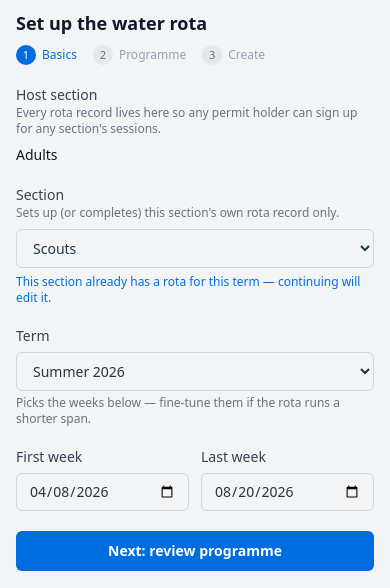
Test case: RotaSetupWizard — re-edit seeding (T1) › seeds range/act/st/en/k/p/regulars and reconstructs excluded overrides from {c:1}; saved excluded wins over the heuristic; switching section away and back re-se
Expected: the date field labelled "First week" holds "2026-04-08", [16, 473, 189, 511]
Expected: the date field labelled "Last week" holds "2026-08-20", [201, 473, 374, 511]
Click the button "Next: review programme" at (195,551), box [16, 531, 374, 571]
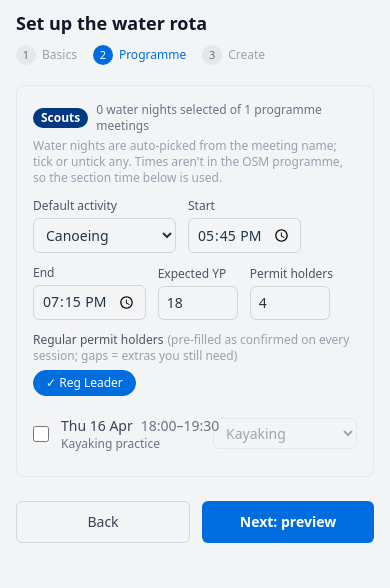
Expected: the dropdown showing "Canoeing" is shown, [33, 218, 176, 253]
Expected: the time field showing "17:45" below "Start" is shown, [188, 218, 301, 253]
Expected: the time field showing "19:15" below "End" is shown, [33, 285, 146, 320]
// Switch away — plan resets to defaults for the newly chosen section.
Click the button "Back" at (103,522), box [16, 501, 190, 543]
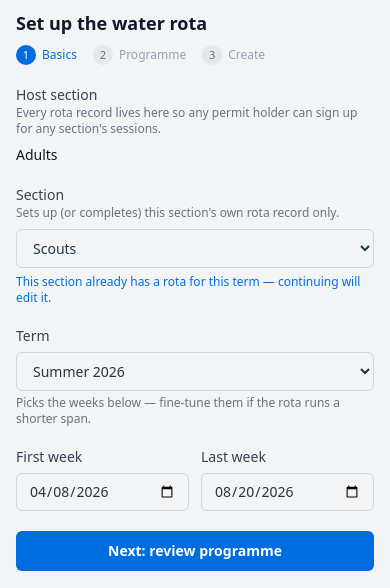
Select "Cubs" in the dropdown labelled "Section" at (195,248), box [16, 229, 374, 268]
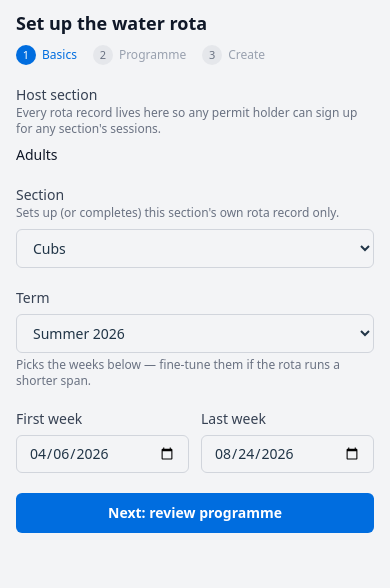
Expected: the dropdown labelled "Term" shows "Summer 2026", [16, 314, 374, 353]
Expected: the date field labelled "First week" holds "2026-04-06", [16, 435, 189, 473]
Select "Scouts" in the dropdown labelled "Section" at (195,248), box [16, 229, 374, 268]
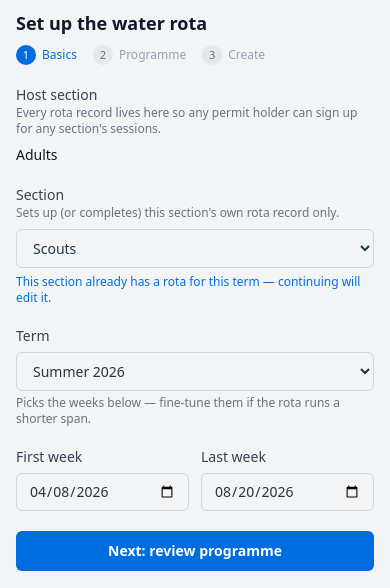
Expected: the date field labelled "First week" holds "2026-04-08", [16, 473, 189, 511]
Expected: the date field labelled "Last week" holds "2026-08-20", [201, 473, 374, 511]
